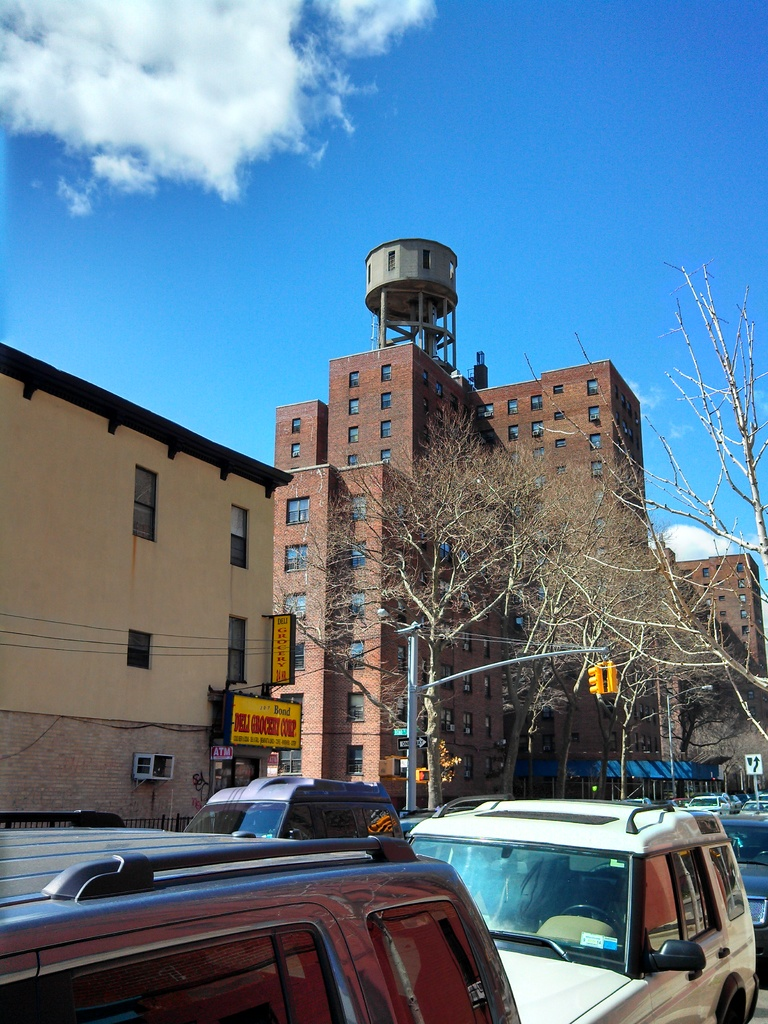Car: (18, 821, 523, 1020), (407, 795, 756, 1023), (188, 771, 398, 842), (681, 783, 767, 949)
